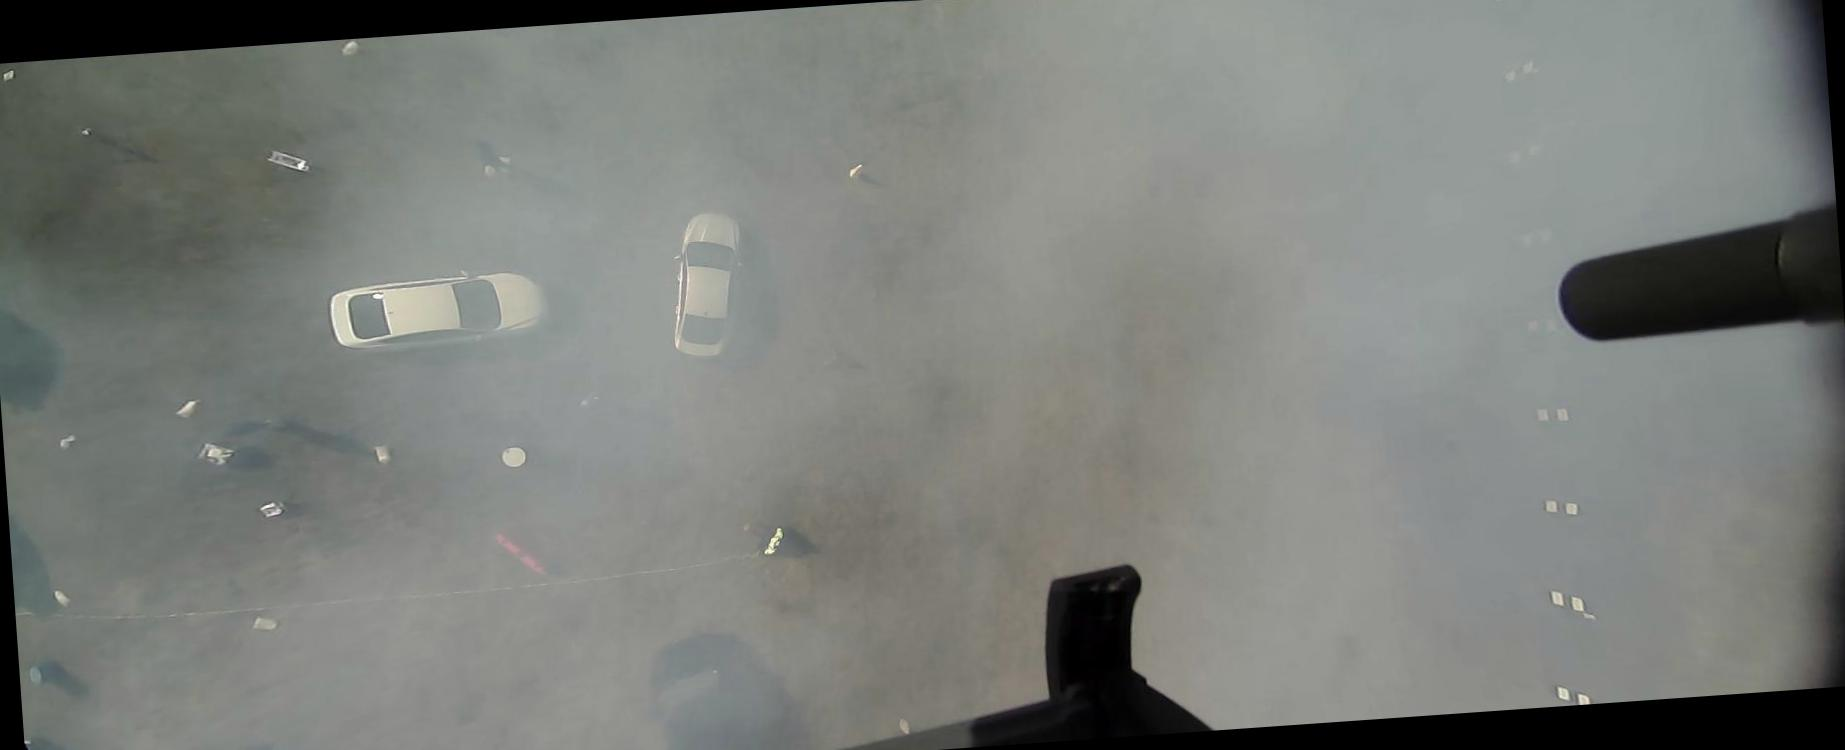vehicle: (322, 261, 548, 354), (637, 624, 805, 749), (661, 208, 752, 360)
